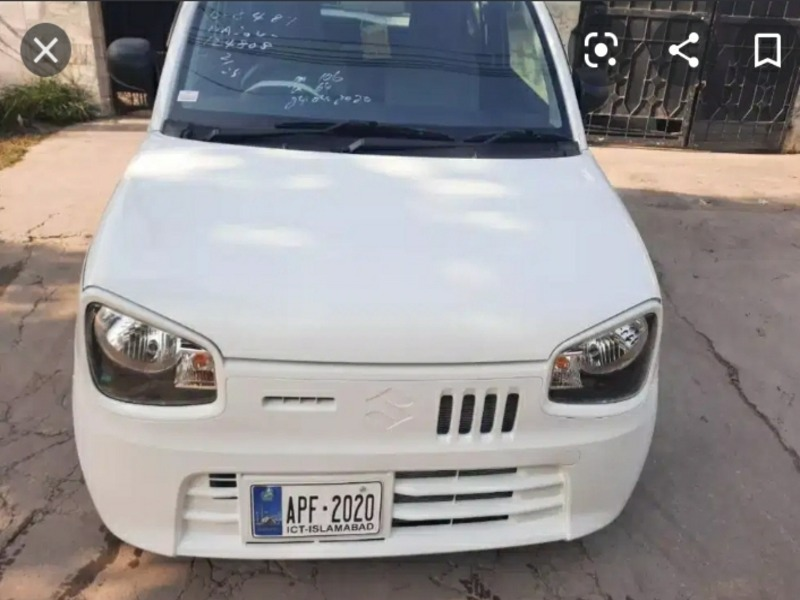License Plate: (247, 480, 387, 540)
